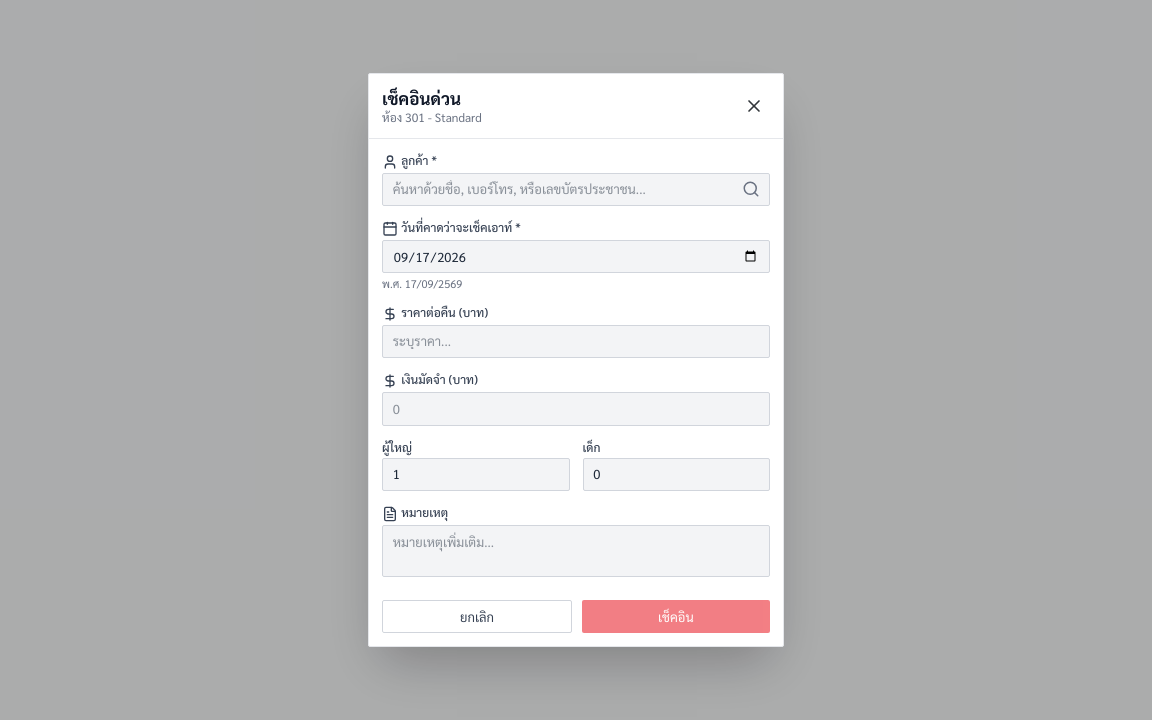
QuickCheckInModal Component › Form Validation › shows error when submitting without selecting customer
Note: Select a customer first to enable submit button
Type "John" into the field with placeholder "ค้นหาด้วยชื่อ, เบอร์โทร, หรือเลขบัตรประชาชน..." at x=576, y=189, box left=382, top=173, right=770, bottom=206
Wait 300 ms
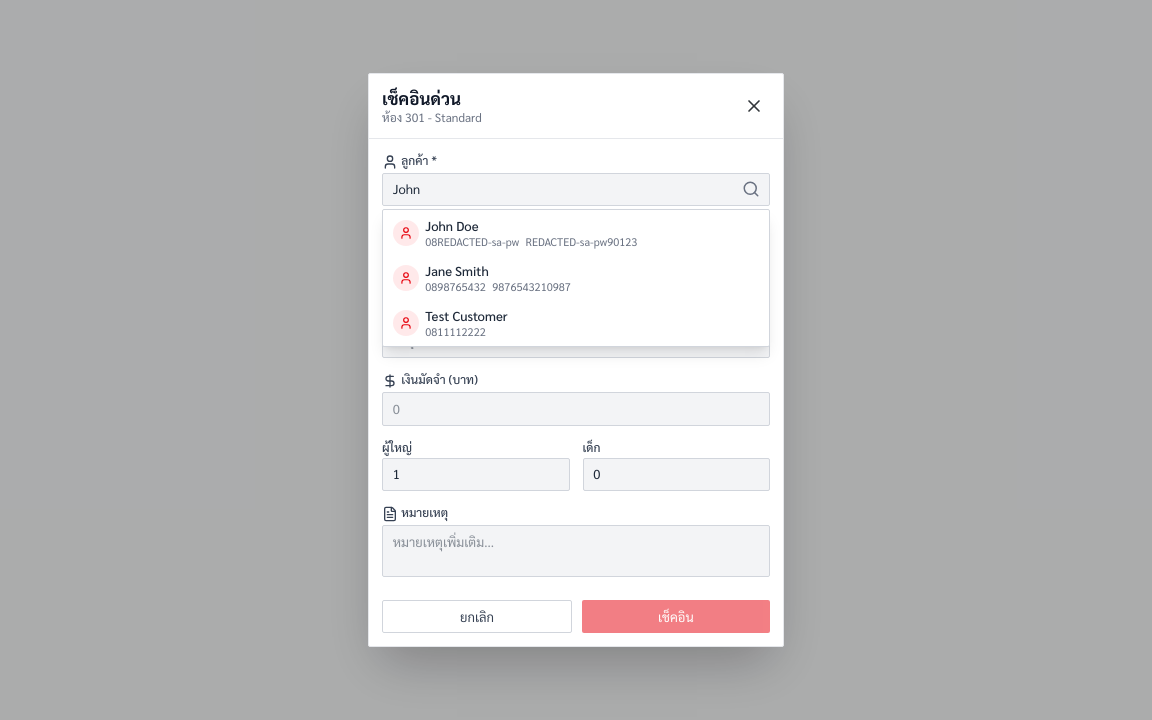
Expected: the text "John Doe" is shown
Note: Click to select customer
Click the text "John Doe" at x=452, y=225, box left=425, top=217, right=479, bottom=234
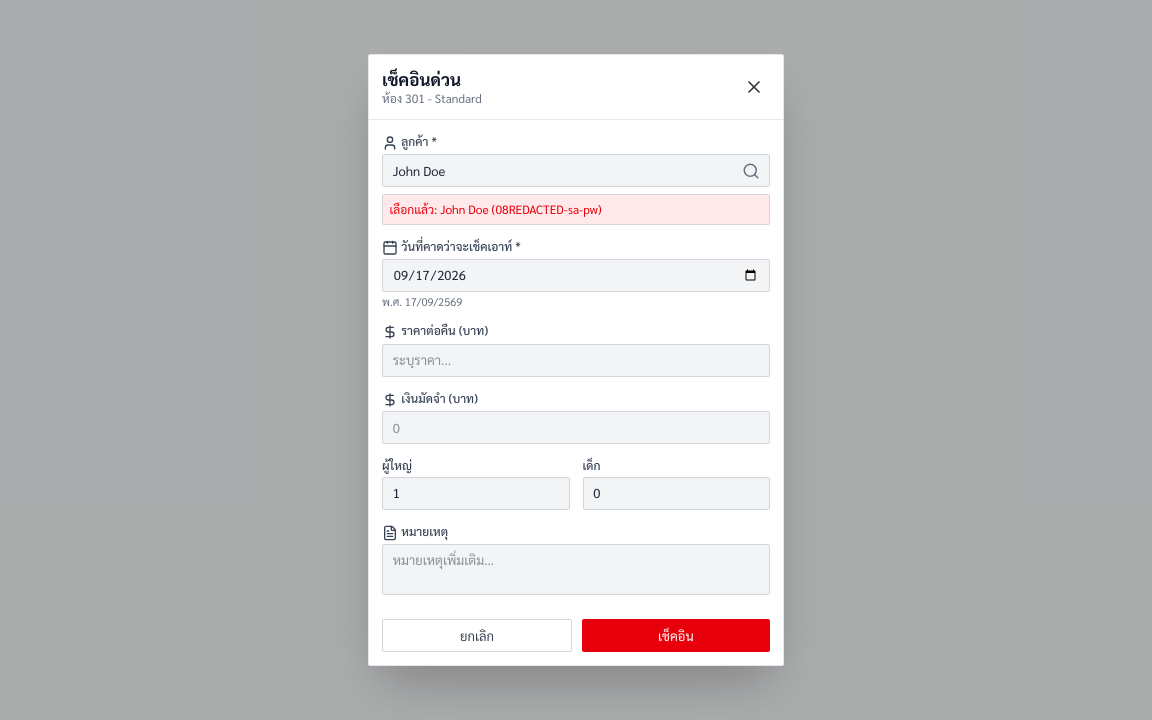
Note: Then clear the search (simulating customer deselection)
Clear the field with placeholder "ค้นหาด้วยชื่อ, เบอร์โทร, หรือเลขบัตรประชาชน..." at x=576, y=171, box left=382, top=154, right=770, bottom=187
Wait 300 ms
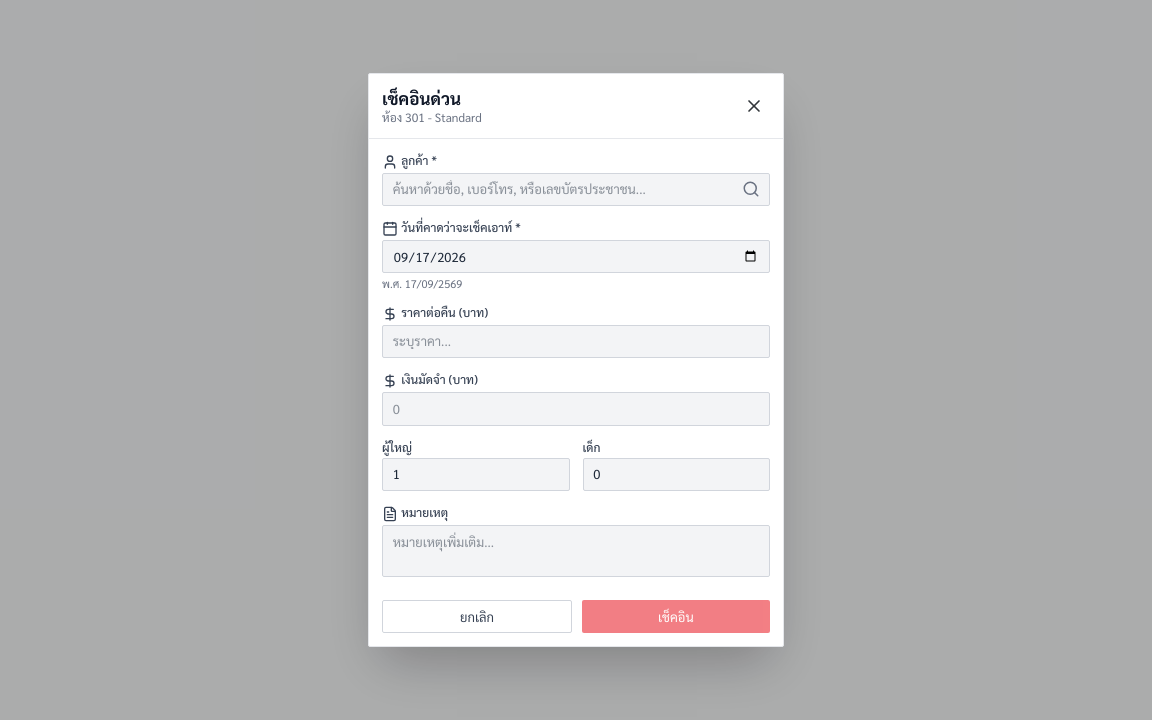
Expected: the button "เช็คอิน" is disabled, left=582, top=600, right=770, bottom=634
